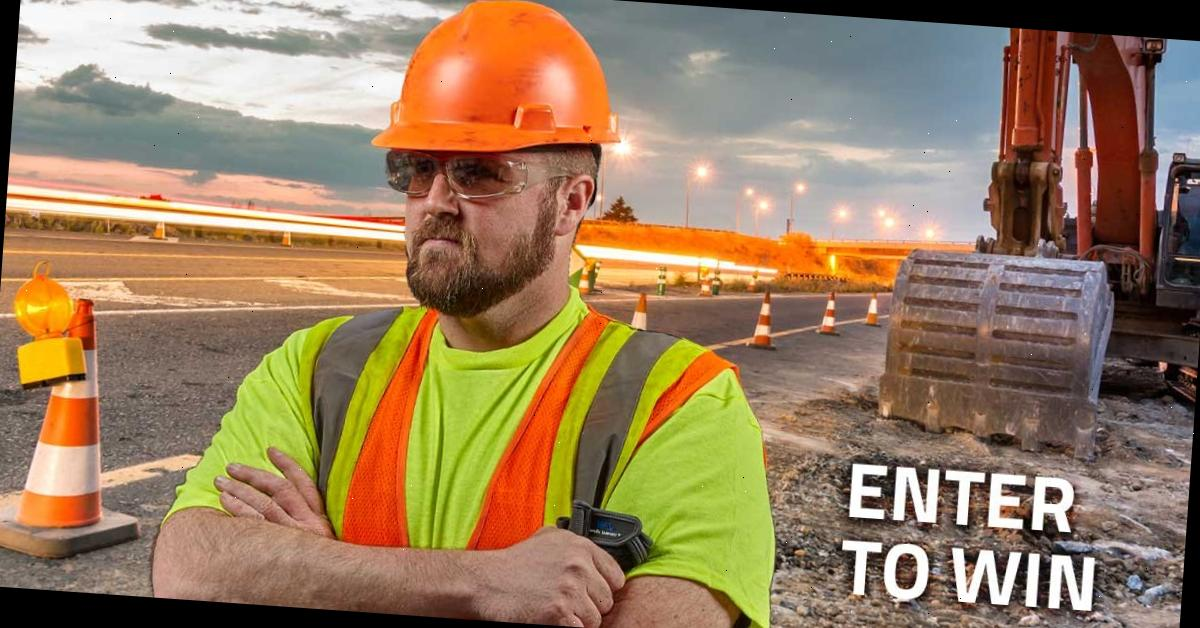helmet: (365, 0, 635, 174), (4, 334, 90, 393)
wear: (215, 311, 746, 628)
